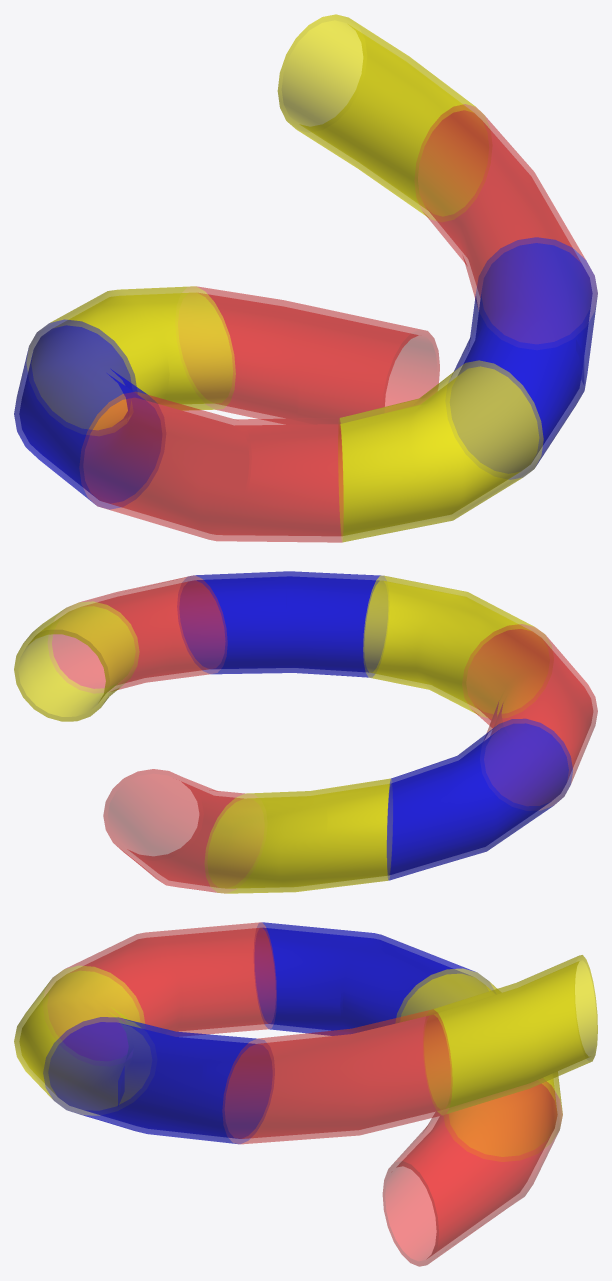
Rendered from Tuberia.fbx.
The picture shows the model from 3 angles, top to bottom: view 1: azimuth 30°, elevation 25°; view 2: azimuth 150°, elevation 25°; view 3: azimuth 270°, elevation 25°; orthographic projection. The views are drawn at different scales.
Visible parts, largest first — view 1: pPipe2; view 2: pPipe2; view 3: pPipe2.
Part boxes in pixels (box(x1,y1,x2,y2)): pPipe2: box(14, 14, 597, 542); pPipe2: box(14, 571, 597, 893); pPipe2: box(14, 922, 597, 1266).
Bounding box in the file's own units: 36.82 × 23.47 × 40.2.
